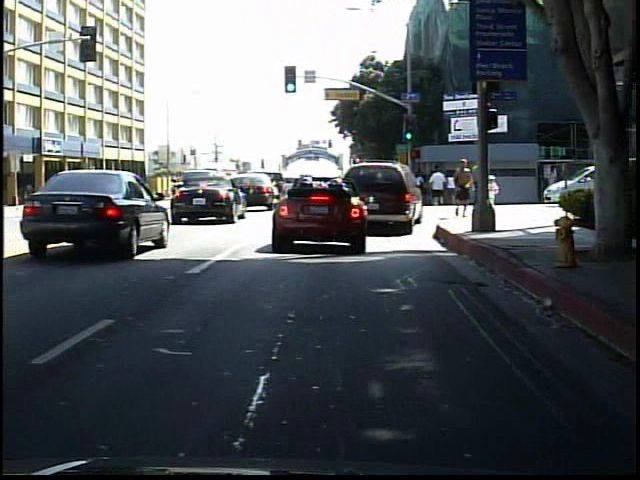person: (449, 156, 473, 220), (479, 172, 501, 211), (111, 175, 129, 204)
